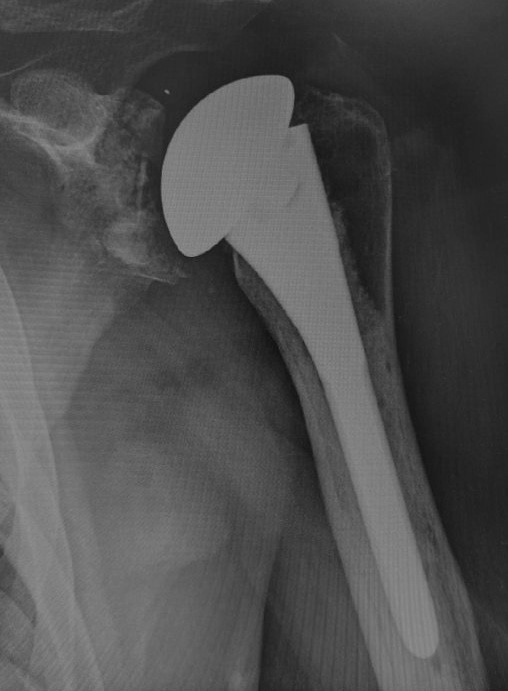Shoulder - Anotomical - Stryker: (158, 68, 339, 266)
